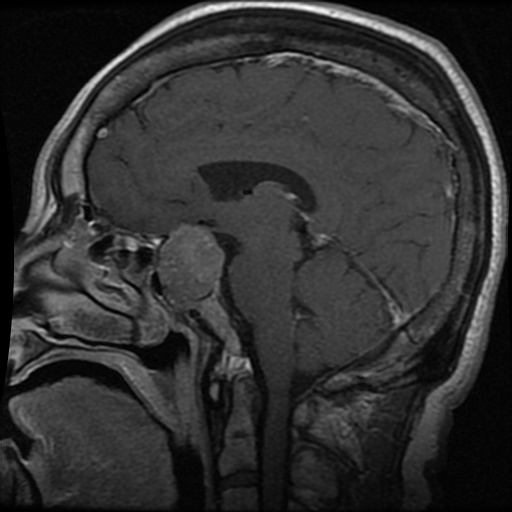pituitary: (158, 226, 221, 308)
